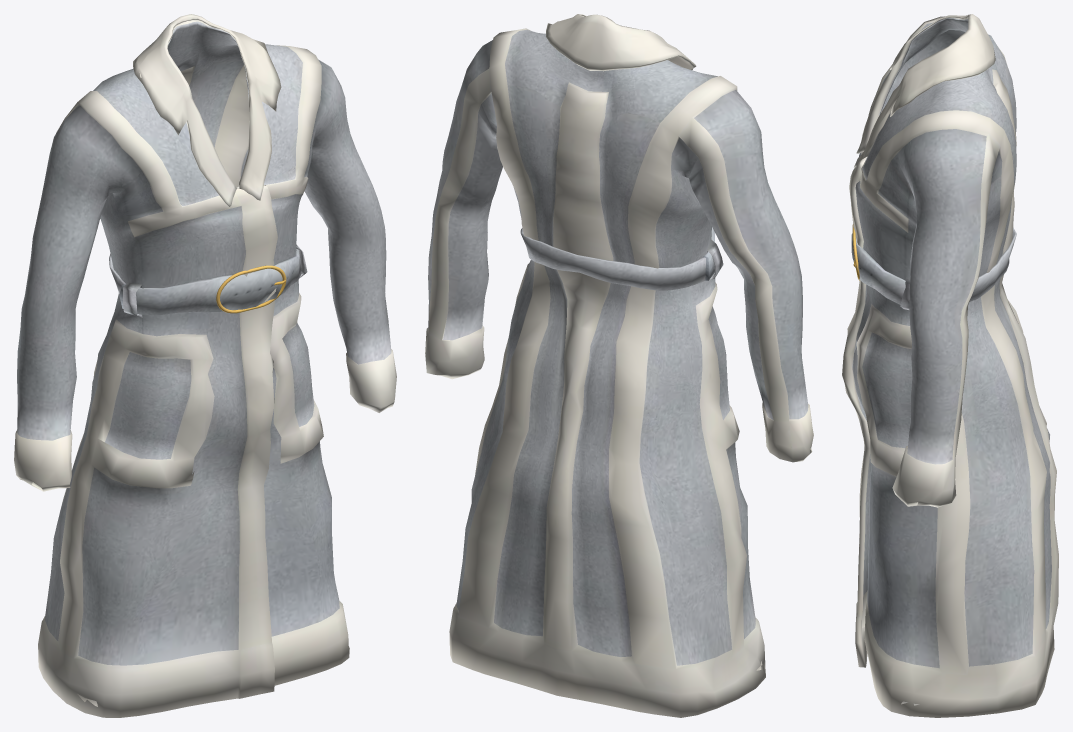
The model's file is punkduck-winter-coat.glb.
The picture shows the model from 3 angles, left to right: view 1: azimuth 30°, elevation 25°; view 2: azimuth 150°, elevation 25°; view 3: azimuth 270°, elevation 25°; orthographic projection. The views are drawn at different scales.
Parts seen in each view (by area): view 1: Human.punkduck_winter_coat; view 2: Human.punkduck_winter_coat; view 3: Human.punkduck_winter_coat.
Part boxes in pixels (x1,y1,x2,y2): Human.punkduck_winter_coat: (14,14,396,717); Human.punkduck_winter_coat: (425,14,813,717); Human.punkduck_winter_coat: (842,14,1058,717).
Size of the model in its own units: 0.7369 by 1.21 by 0.3736.
1 material, 1 textured.
